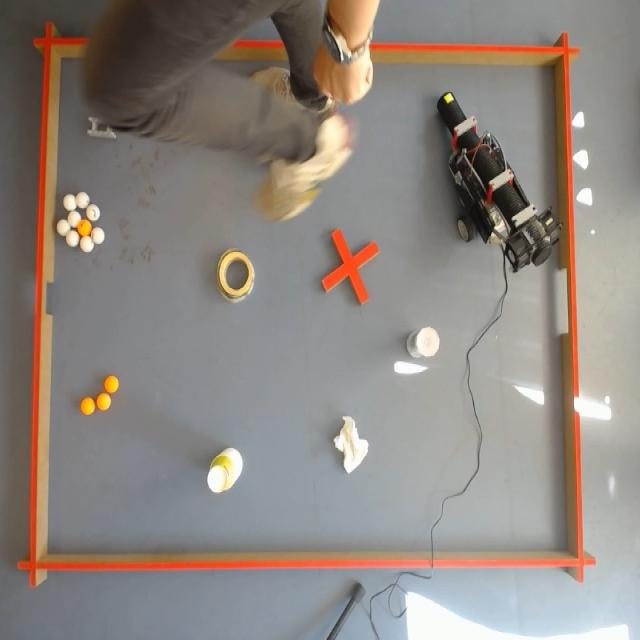orange: (80, 397, 96, 415), (96, 393, 111, 411), (104, 376, 118, 394), (78, 219, 92, 236)
robot: (437, 92, 561, 273)
robot-front: (438, 92, 464, 130)
white: (80, 232, 94, 253), (66, 228, 79, 248), (91, 227, 105, 245), (76, 192, 89, 211), (87, 203, 100, 222), (57, 220, 70, 237), (63, 194, 76, 211), (68, 211, 81, 227)
